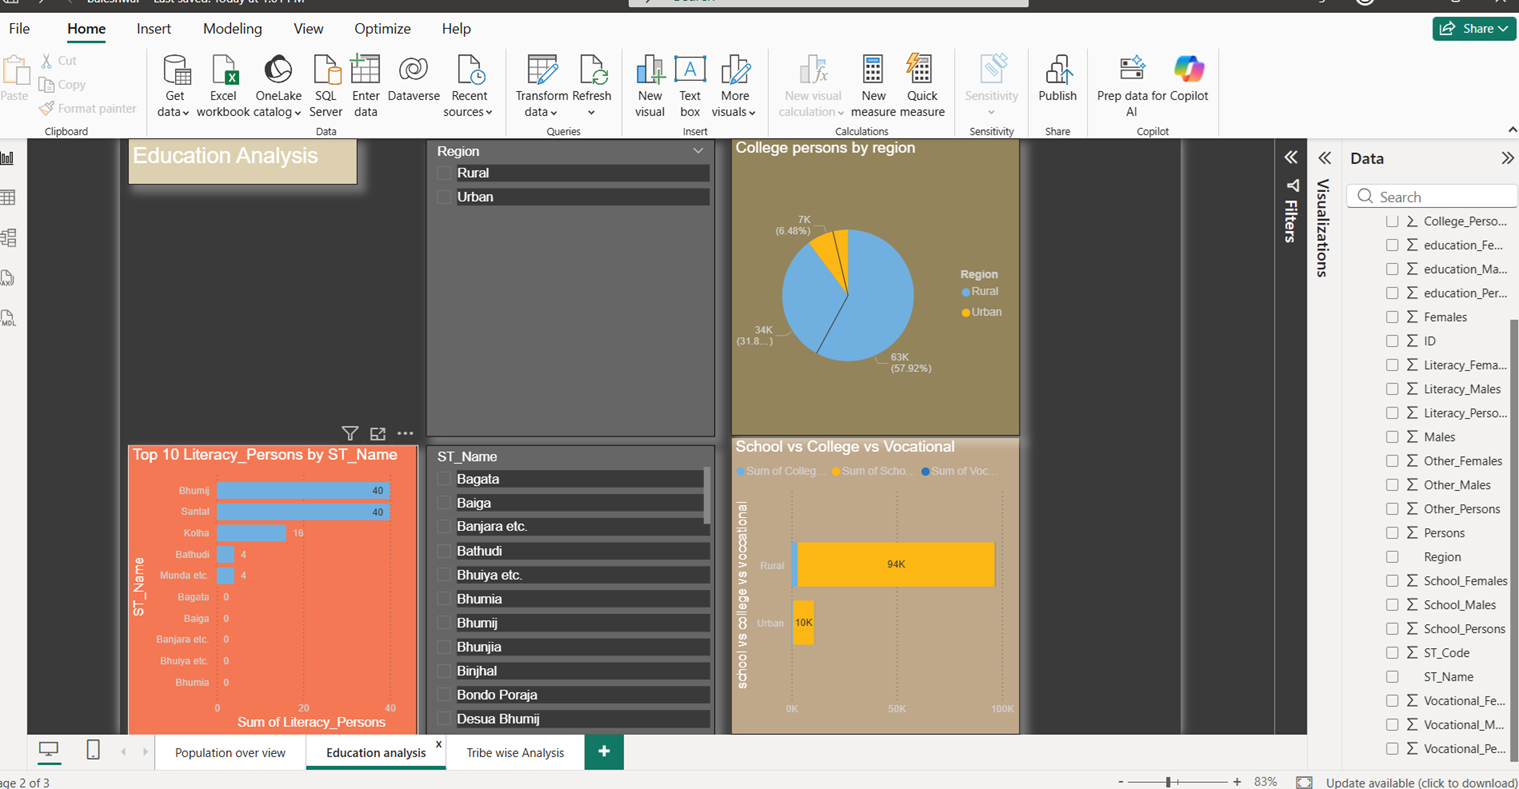

Layout of this report page (visuals, bound fields, positions):
{"tool":"powerbi","page":{"name":"Education analysis","canvas":[1280,720],"ordinal":1},"visuals":[{"type":"barChart","title":"School vs College vs Vocational","fields":{"Y":["Sum(baleshwar_cleaned_final.College_Persons)","Sum(baleshwar_cleaned_final.School_Persons)","Sum(baleshwar_cleaned_final.Vocational_Persons)"],"Category":["baleshwar_cleaned_final.Region"]},"box":[736.9,360.9,348.5,359.5],"z":0},{"type":"clusteredBarChart","title":"Top 10 Literacy_Persons by ST_Name","fields":{"Y":["Sum(baleshwar_cleaned_final.Literacy_Persons)"],"Category":["baleshwar_cleaned_final.ST_Name"]},"box":[10,370,349,350],"z":1000},{"type":"slicer","fields":{"Values":["baleshwar_cleaned_final.Region"]},"box":[369.1,1.4,348.5,359.5],"z":2000},{"type":"slicer","fields":{"Values":["baleshwar_cleaned_final.ST_Name"]},"box":[369,370,349,350],"z":3000},{"type":"textbox","box":[9.6,0,277.2,56.3],"z":4000},{"type":"pieChart","title":"College persons by region","fields":{"Category":["baleshwar_cleaned_final.Region"],"Y":["Sum(baleshwar_cleaned_final.education_Males)","Sum(baleshwar_cleaned_final.education_Females)"]},"box":[736.9,0,348.5,359.5],"z":5000}]}

Visuals, with their boxes on the page's 1280x720 design canvas (x1, y1, x2, y2). These are canvas units, not pixel positions in the 1519x789 screenshot, which may show the page scaled, cropped or inside an application window:
"School vs College vs Vocational" barChart: box=[737, 361, 1085, 720]
"Top 10 Literacy_Persons by ST_Name" clusteredBarChart: box=[10, 370, 359, 720]
slicer - baleshwar_cleaned_final.Region: box=[369, 1, 718, 361]
slicer - baleshwar_cleaned_final.ST_Name: box=[369, 370, 718, 720]
textbox: box=[10, 0, 287, 56]
"College persons by region" pieChart: box=[737, 0, 1085, 360]
